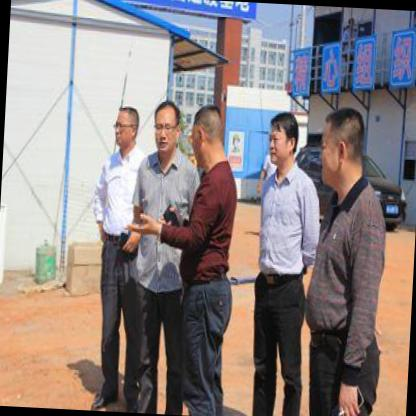head: (317, 97, 371, 195), (188, 98, 228, 172), (266, 108, 300, 170), (150, 96, 184, 158), (109, 101, 144, 152)
